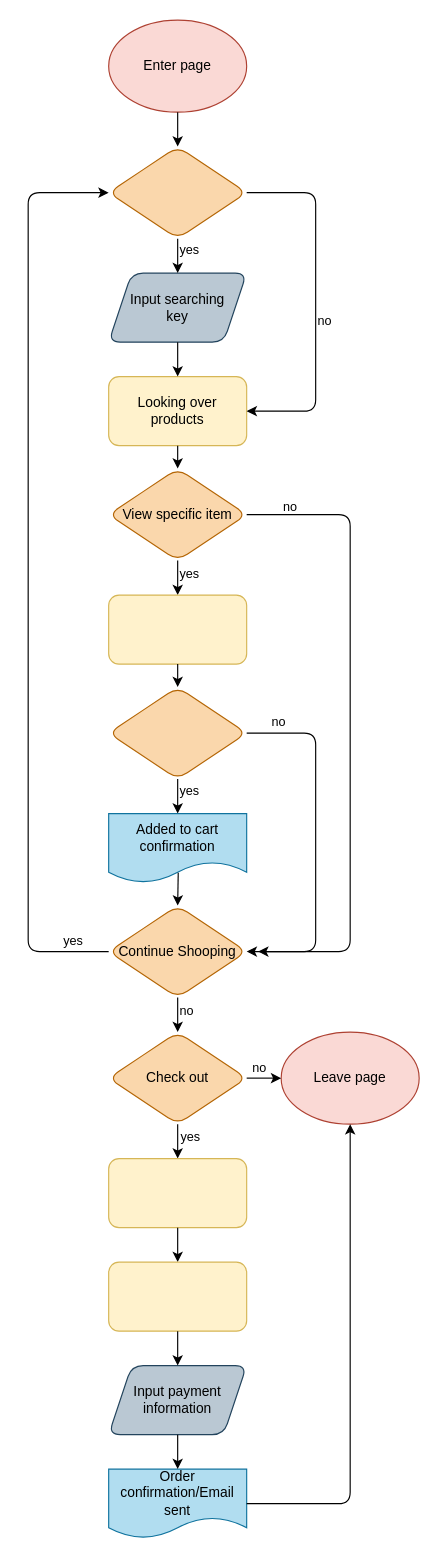
This 439x1558 diagram has some shape labels left out. Here are the shapes that lost their labels. From the top down, the centre of each, then its label:
At (x=177, y=192): "Search".
At (x=177, y=629): "Open product page".
At (x=177, y=732): "Add to cart".
At (x=177, y=1192): "View cart".
At (x=177, y=1296): "View payment".
